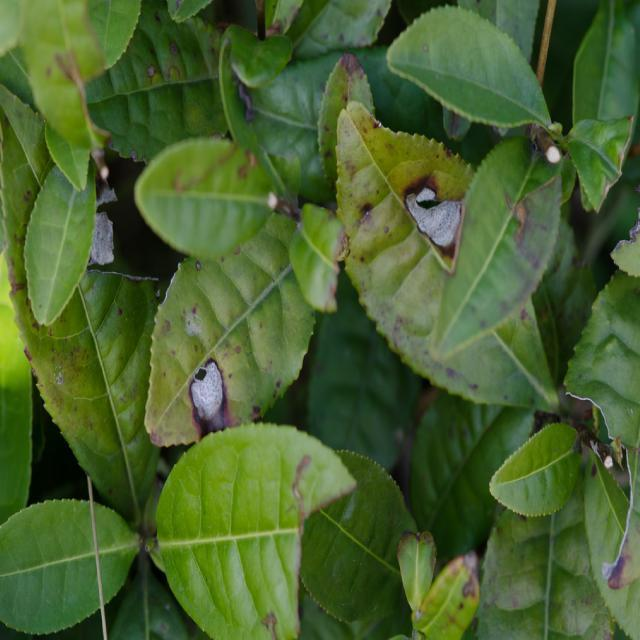Tea cloud leaf blight: (393, 174, 477, 270), (185, 355, 231, 430)
